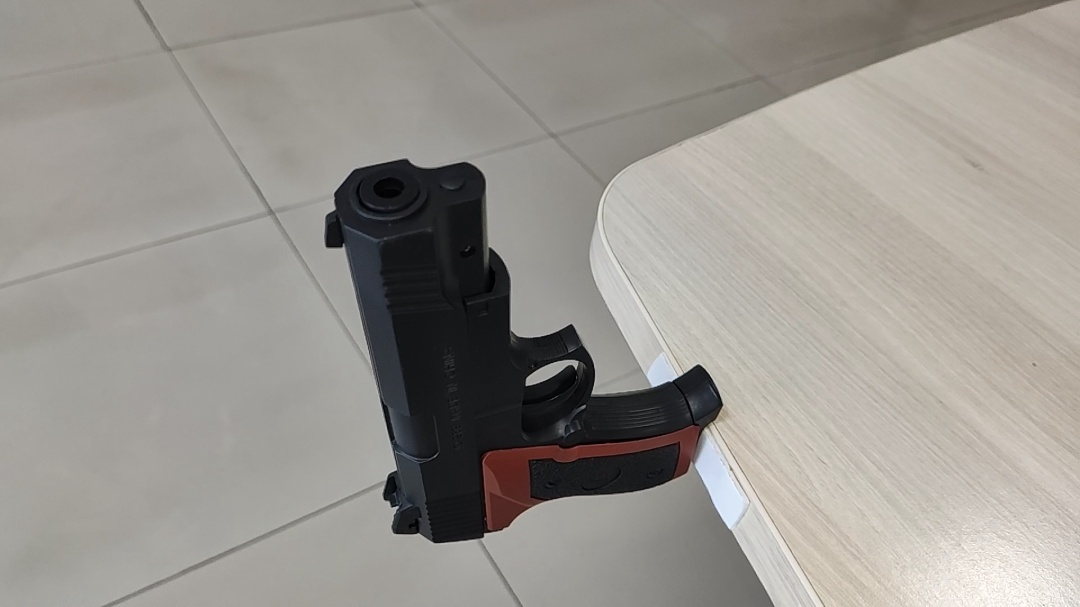gun: (316, 152, 727, 552)
